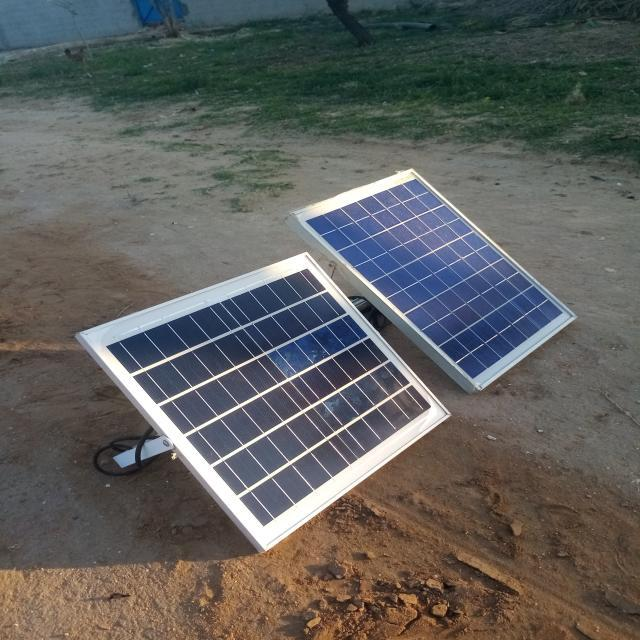no faulty: (82, 257, 451, 549), (291, 168, 578, 388)
